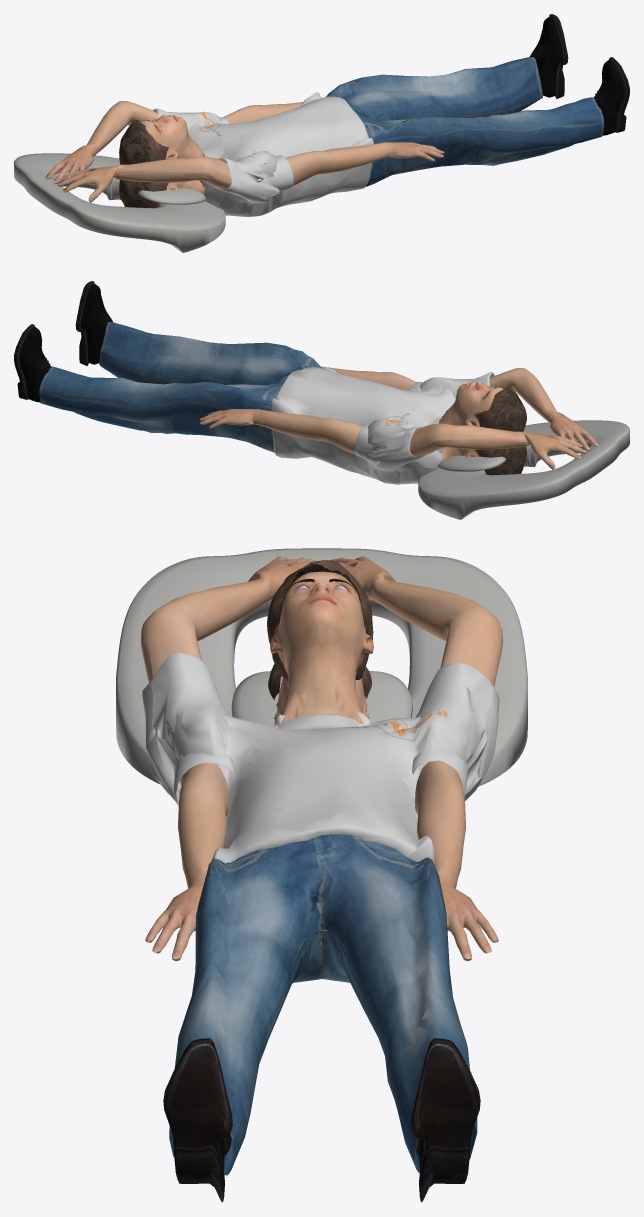
3 renders of one model, top to bottom at view 1: azimuth 30°, elevation 25°; view 2: azimuth 150°, elevation 25°; view 3: azimuth 270°, elevation 25°, orthographic. The views are drawn at different scales.
Parts seen in each view (by area): view 1: Human.male_casualsuit06, IQSPECT_Arm_Support, Human.male_casualsuit06.001, Human.001, Human, Human.shoes03, Human.short02.001, Human.short02, IQSPECT_Head_Pad; view 2: Human.male_casualsuit06, IQSPECT_Arm_Support, Human.male_casualsuit06.001, Human.001, Human, Human.shoes03, Human.short02.001, Human.short02, IQSPECT_Head_Pad; view 3: Human.male_casualsuit06, Human.male_casualsuit06.001, Human.001, IQSPECT_Arm_Support, Human.shoes03, Human, IQSPECT_Head_Pad, Human.short02.001.
Boxes of the visible parts, x1,y1,x2,y2 form: Human.male_casualsuit06: (188, 57, 604, 216); IQSPECT_Arm_Support: (14, 153, 225, 252); Human.male_casualsuit06.001: (153, 60, 578, 217); Human.001: (45, 101, 231, 202); Human: (166, 102, 444, 195); Human.shoes03: (530, 14, 629, 148); Human.short02.001: (119, 120, 168, 164); Human.short02: (119, 179, 168, 208); IQSPECT_Head_Pad: (119, 179, 205, 204); Human.male_casualsuit06: (39, 322, 455, 484); IQSPECT_Arm_Support: (418, 420, 629, 519); Human.male_casualsuit06.001: (40, 327, 494, 484); Human.001: (409, 368, 598, 469); Human: (199, 366, 521, 459); Human.shoes03: (14, 281, 113, 402); Human.short02.001: (474, 387, 526, 431); Human.short02: (474, 446, 526, 475); IQSPECT_Head_Pad: (438, 455, 505, 471); Human.male_casualsuit06: (169, 714, 477, 1175); Human.male_casualsuit06.001: (142, 652, 499, 1150); Human.001: (140, 556, 503, 762); IQSPECT_Arm_Support: (116, 548, 527, 786); Human.shoes03: (163, 1038, 480, 1202); Human: (145, 657, 498, 1138); IQSPECT_Head_Pad: (231, 670, 412, 726); Human.short02.001: (267, 560, 373, 681).
Size of the model in its own units: 2.05 by 0.3928 by 0.6649.
13 materials, 12 textured.
